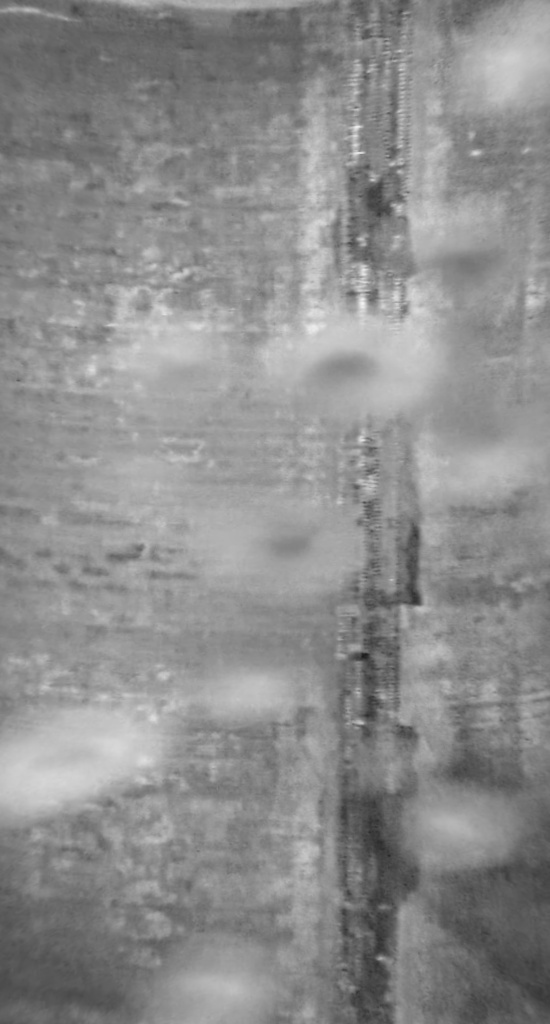splice: (329, 2, 426, 1022)
